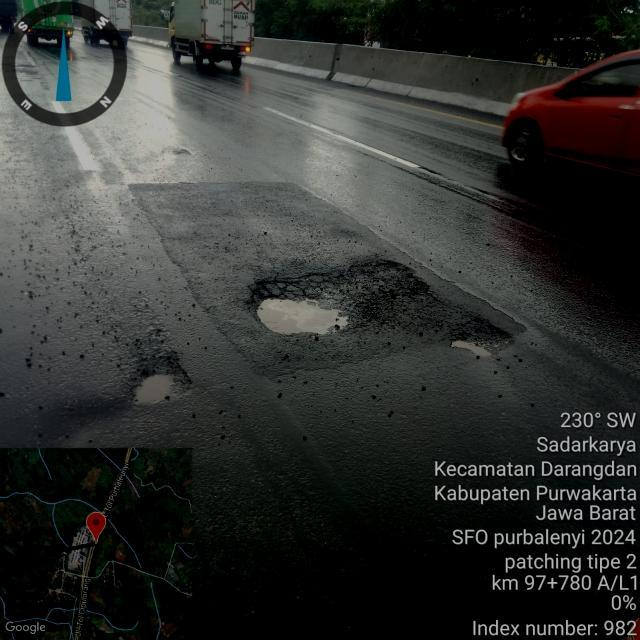Buraco: (240, 256, 433, 339), (125, 348, 197, 408), (444, 312, 518, 362), (15, 67, 40, 77), (14, 62, 37, 68)
